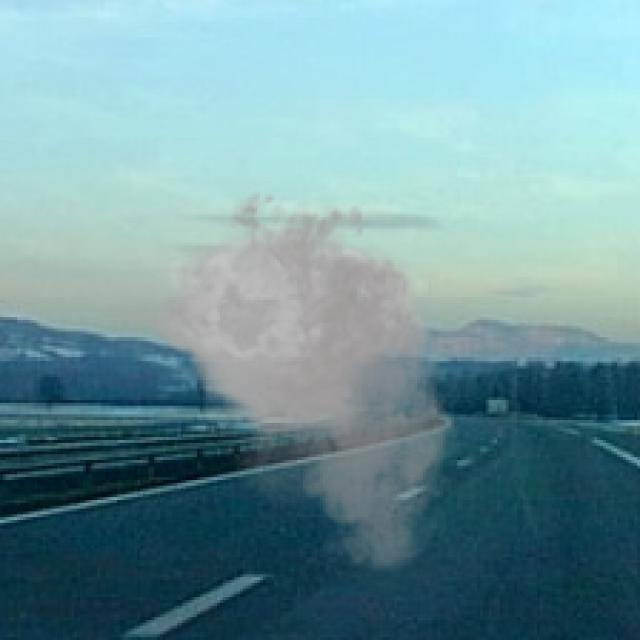Smoke: (106, 177, 468, 577)
